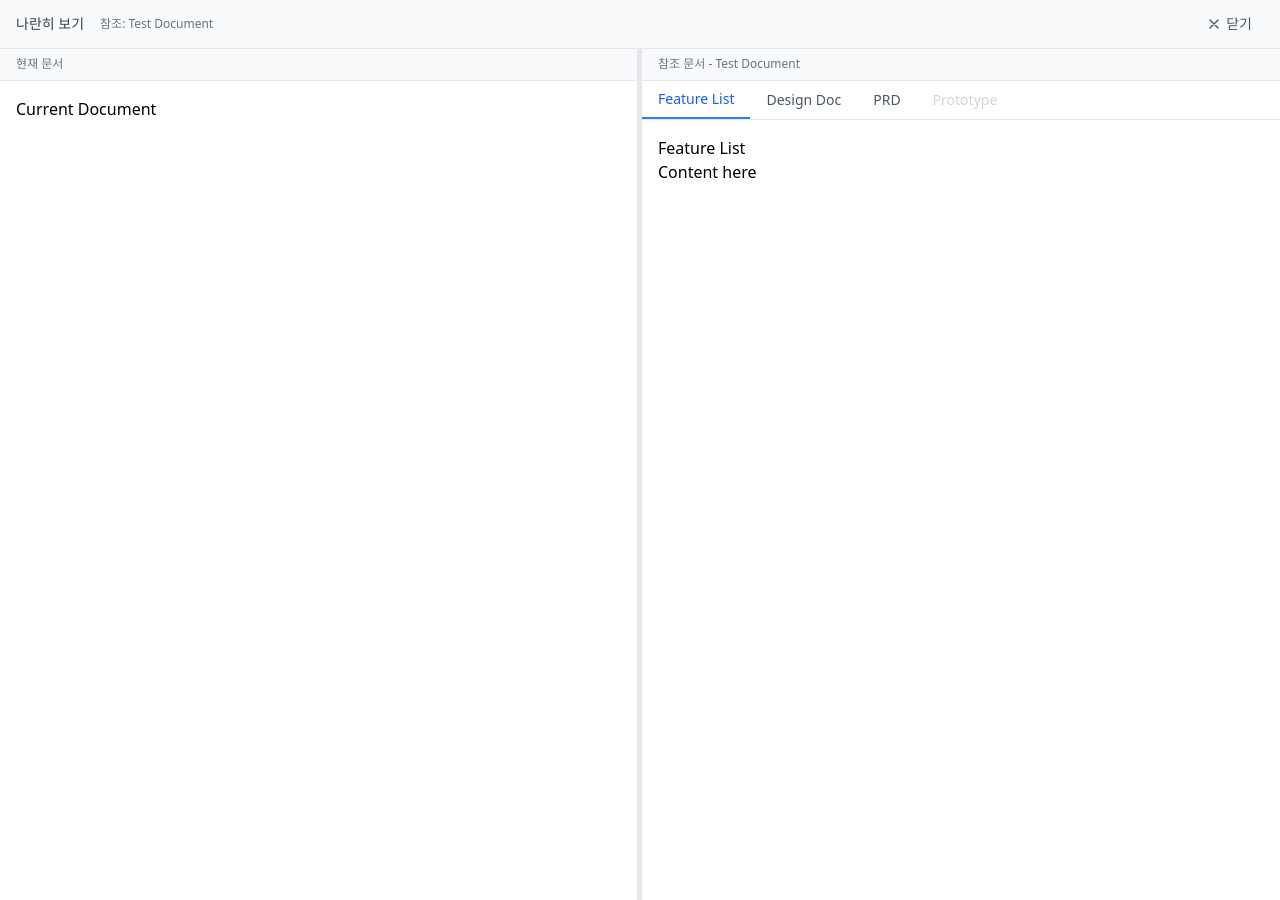
Test: SideBySideView › Document tabs › should switch document content when tab is clicked
Click the tab "Design Doc".
click(804, 100)  # box 750,81 -> 857,119
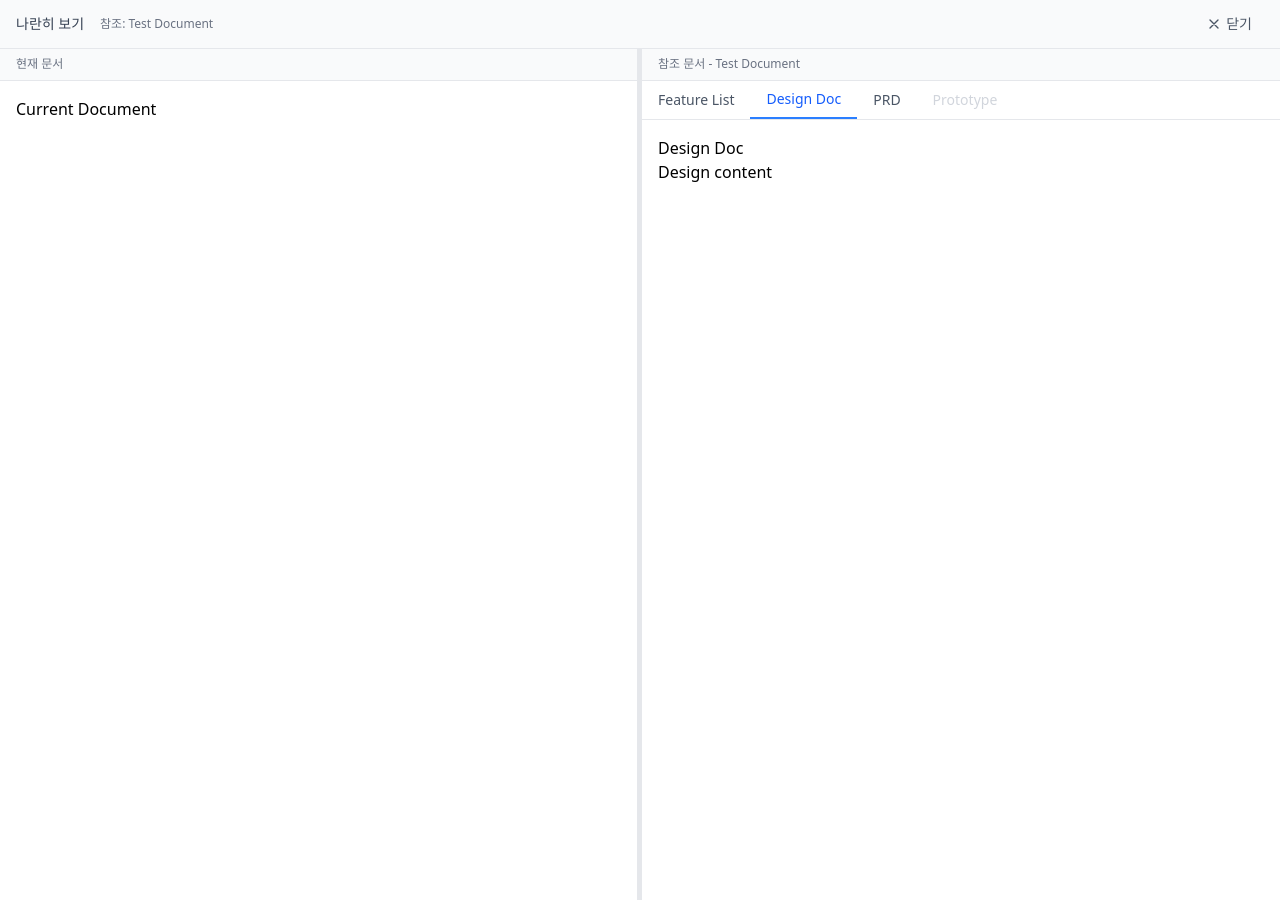
Expected: the element with test id "document-preview" shows "Design content", 658,161 -> 772,183
